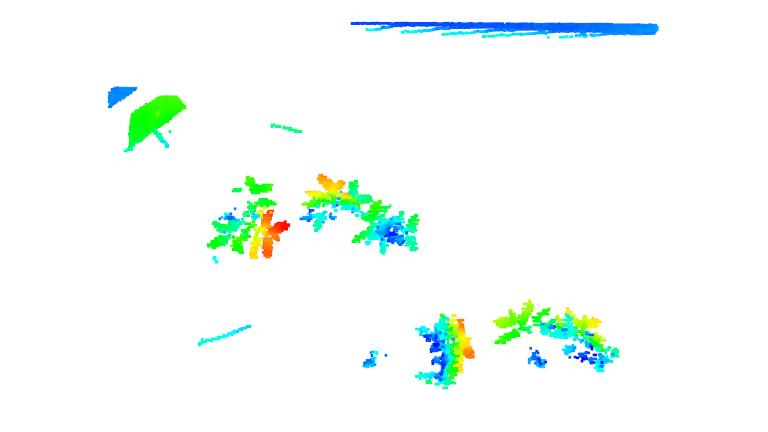chickpea: (203, 176, 292, 259), (491, 299, 556, 372), (415, 313, 478, 387), (552, 307, 623, 369), (349, 201, 425, 258), (298, 174, 374, 230)
